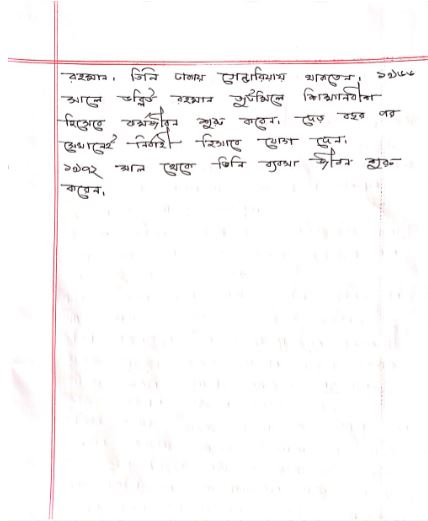line: (62, 148, 406, 180), (60, 105, 407, 132), (61, 83, 384, 110), (59, 126, 351, 154), (63, 65, 418, 87), (60, 180, 112, 204)
